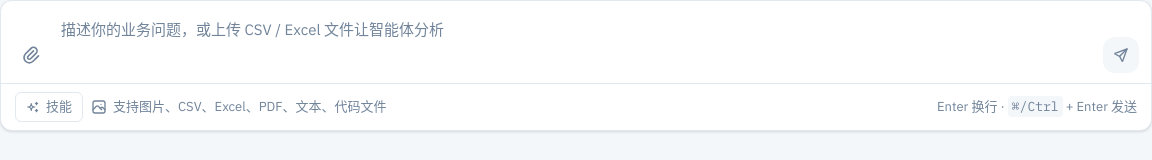
Test: Composer › 输入文字 → 发送按钮由 disabled 变 enabled
Expected: the button named "发送" is disabled, [1103, 37, 1139, 73]
Type "分析附件" into the text box named "提问" at (576, 42), box [57, 11, 1095, 73]
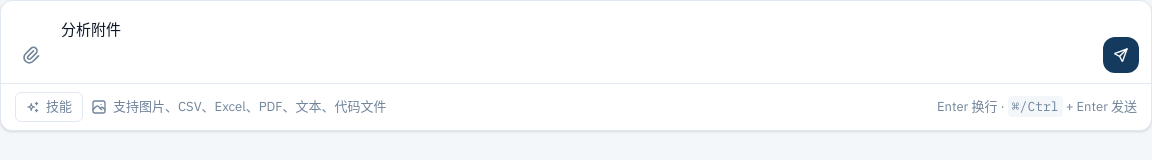
Expected: the button named "发送" is enabled, [1103, 37, 1139, 73]
